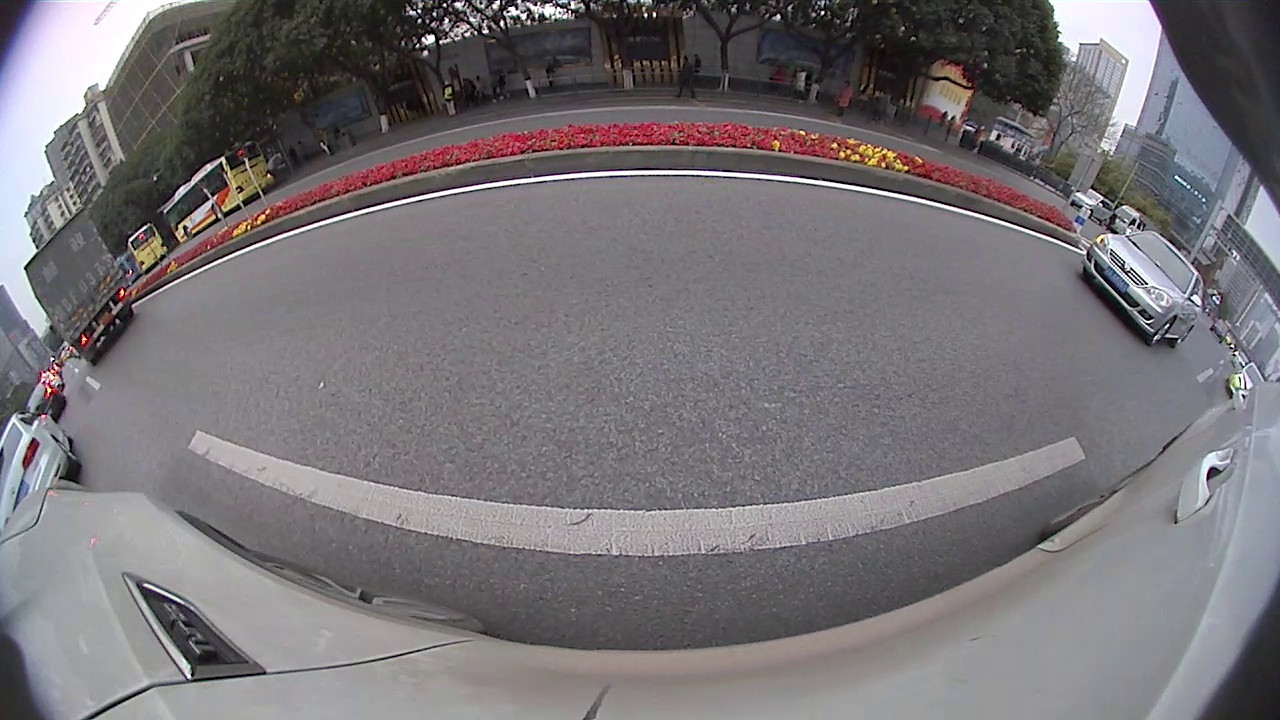bus: (159, 139, 281, 248), (123, 222, 169, 277)
car: (1082, 227, 1209, 349), (1, 412, 83, 534), (21, 378, 69, 422), (1227, 361, 1269, 406), (1073, 188, 1116, 228)
front: (1146, 314, 1176, 348)
rear: (50, 433, 79, 465), (211, 202, 223, 220)
truck: (21, 204, 136, 370), (1112, 202, 1163, 241)
